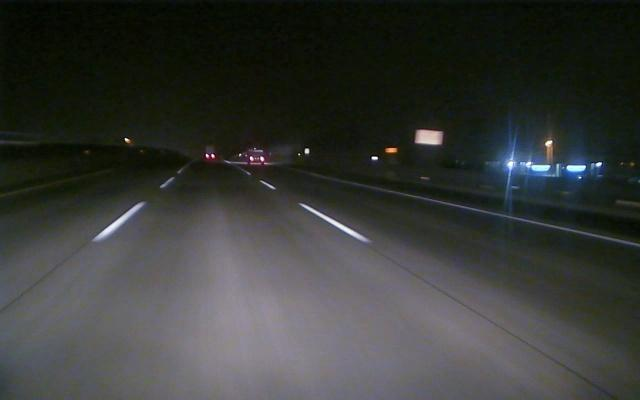lane: (331, 178, 639, 248), (262, 181, 370, 242), (92, 178, 174, 241)
